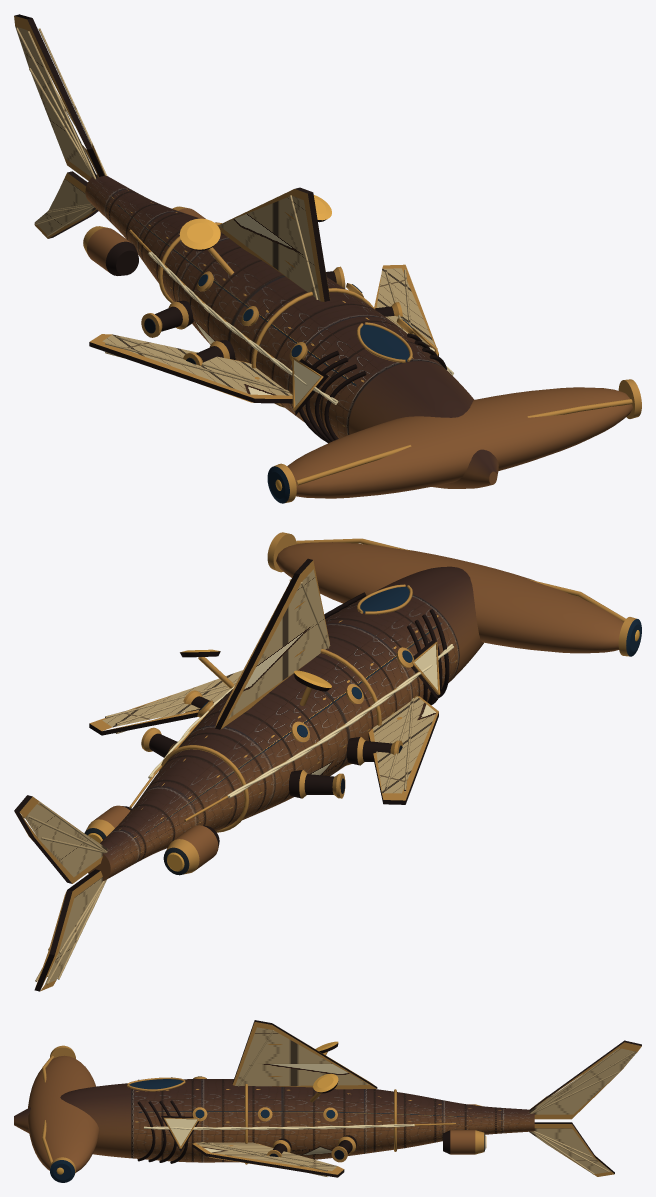
3 renders of one model, top to bottom at view 1: azimuth 30°, elevation 25°; view 2: azimuth 150°, elevation 25°; view 3: azimuth 270°, elevation 25°, orthographic. The views are drawn at different scales.
Visible parts, largest first — view 1: hammerhead_hull; view 2: hammerhead_hull; view 3: hammerhead_hull.
Part boxes in pixels (left/top/right/bottom): hammerhead_hull: left=14, top=14, right=641, bottom=503; hammerhead_hull: left=14, top=532, right=641, bottom=991; hammerhead_hull: left=14, top=1020, right=641, bottom=1182.
Bounding box in the file's own units: 34.14 × 21.29 × 78.
Materials: 1 (1 with a texture image).
